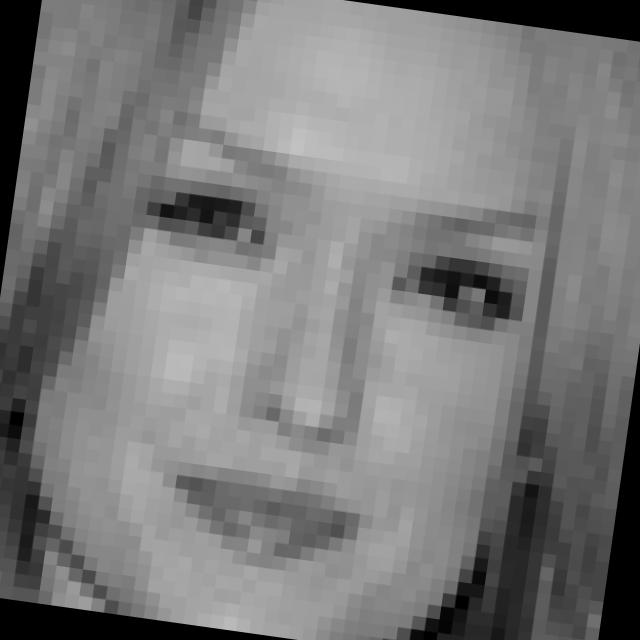neutral: (100, 111, 554, 608)
